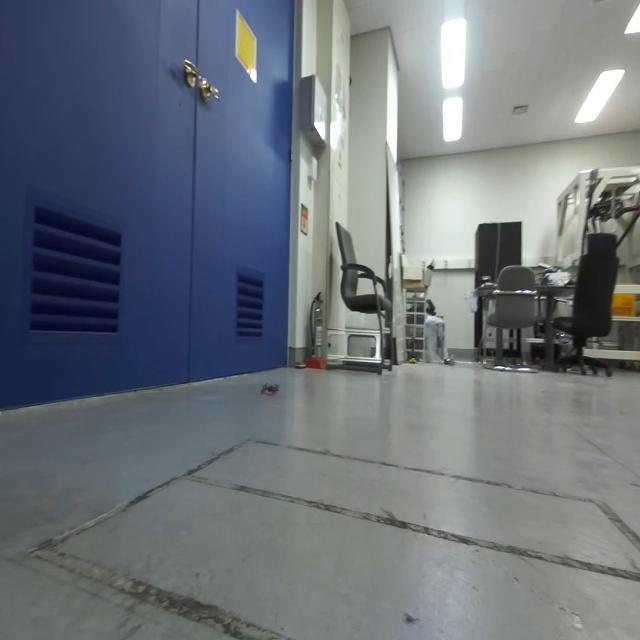crazyflie: (259, 376, 283, 402)
